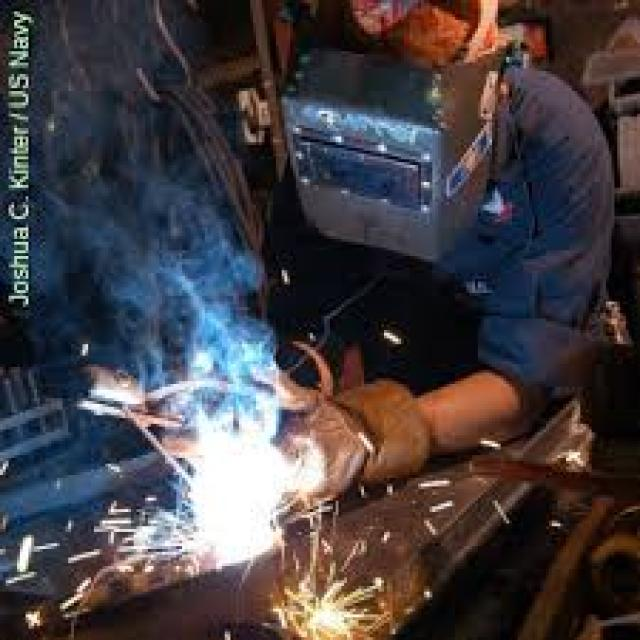welding: (196, 421, 282, 559)
